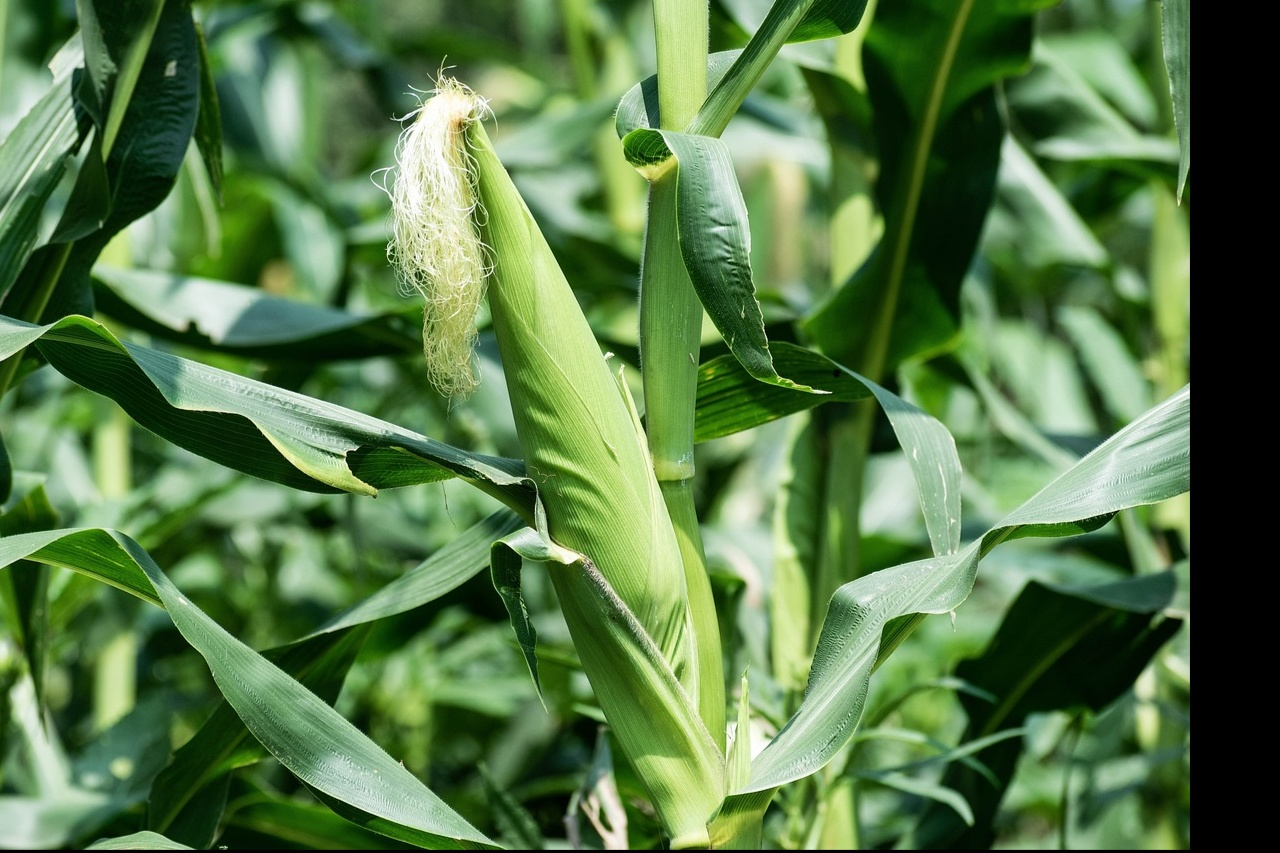corn_plant: (361, 76, 734, 790)
